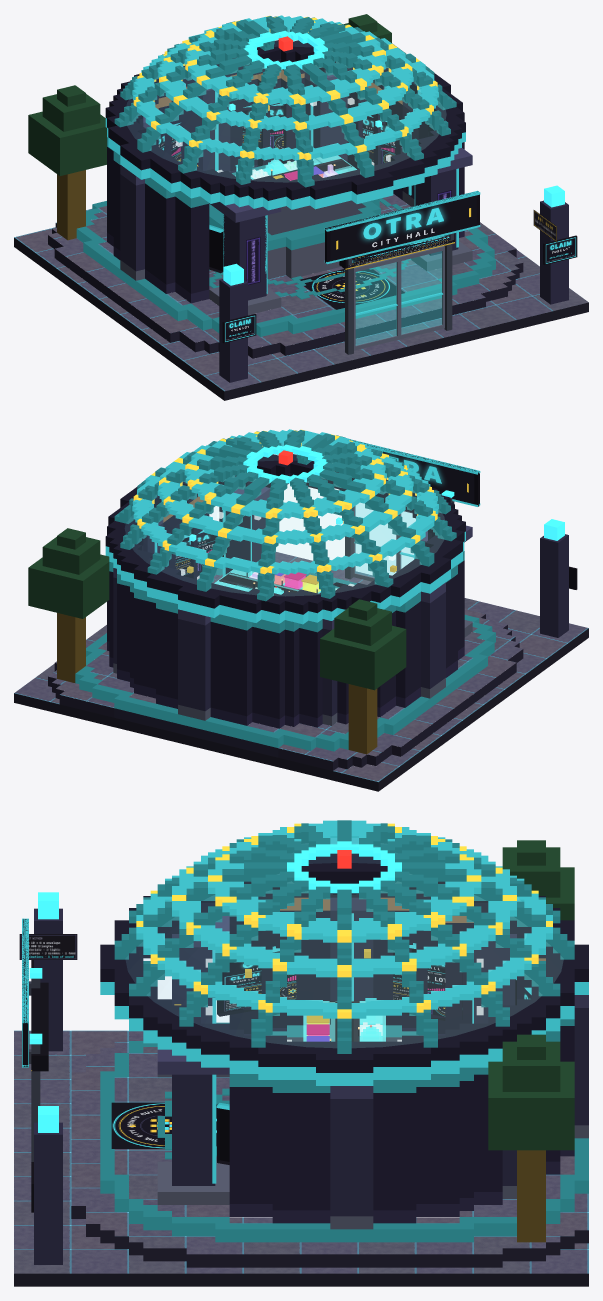
The model's file is plot.glb.
The picture shows the model from 3 angles, top to bottom: view 1: azimuth 30°, elevation 25°; view 2: azimuth 150°, elevation 25°; view 3: azimuth 270°, elevation 25°; orthographic projection. The views are drawn at different scales.
Visible parts, largest first — view 1: hall_structure, hall_floor, dome_rings, hall_glass, hall_art, door_panel_L, door_panel_R, city_model, floor_inlay, pic_1, link_2, link_1 (+2 smaller); view 2: hall_structure, dome_rings, hall_floor, hall_glass, hall_art, city_model, door_panel_R, screen_1; view 3: hall_structure, hall_floor, dome_rings, hall_glass, hall_art, city_model, screen_2, pic_5, floor_inlay.
Part boxes in pixels (x1,y1,x2,y2): hall_structure: [14, 14, 588, 400]; hall_floor: [14, 194, 588, 391]; dome_rings: [105, 15, 465, 210]; hall_glass: [127, 29, 445, 181]; hall_art: [246, 190, 556, 309]; door_panel_L: [354, 257, 399, 350]; door_panel_R: [399, 246, 444, 339]; city_model: [235, 155, 356, 180]; floor_inlay: [209, 198, 411, 299]; pic_1: [348, 234, 452, 267]; link_2: [224, 315, 255, 342]; link_1: [545, 236, 576, 264]; hall_structure: [14, 430, 588, 791]; dome_rings: [105, 429, 465, 624]; hall_floor: [14, 552, 588, 781]; hall_glass: [125, 443, 444, 595]; hall_art: [333, 451, 474, 586]; city_model: [214, 569, 337, 594]; door_panel_R: [352, 503, 397, 581]; screen_1: [175, 534, 217, 575]; hall_structure: [14, 820, 588, 1286]; hall_floor: [14, 1030, 588, 1273]; dome_rings: [100, 820, 588, 1085]; hall_glass: [126, 838, 562, 1047]; hall_art: [19, 934, 217, 1148]; city_model: [303, 998, 385, 1041]; screen_2: [224, 952, 296, 1011]; pic_5: [393, 952, 462, 1019]; floor_inlay: [157, 1088, 229, 1159].
Size of the model in its own units: 10 by 5.99 by 10.
Materials: 4 (4 with a texture image).
